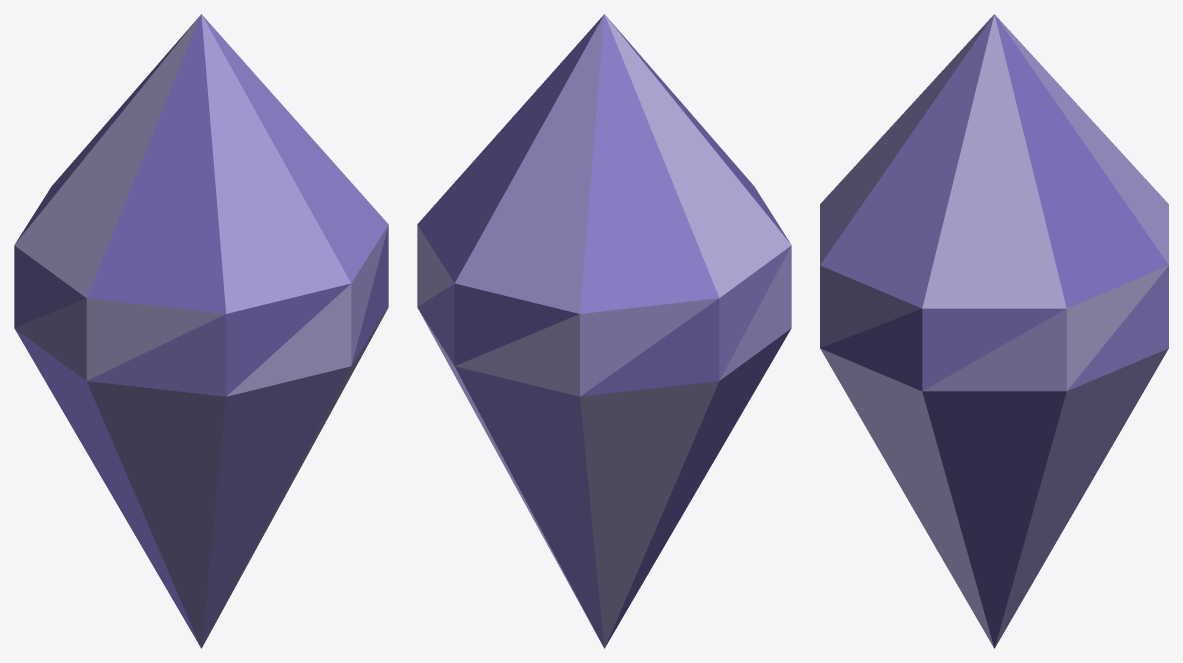
File: demo-model.glb
3 renders of one model, left to right at view 1: azimuth 30°, elevation 25°; view 2: azimuth 150°, elevation 25°; view 3: azimuth 270°, elevation 25°, orthographic.
Parts seen in each view (by area): view 1: Demo crystal; view 2: Demo crystal; view 3: Demo crystal.
Boxes of the visible parts, bbox=[...] form: Demo crystal: bbox=[14, 14, 388, 648]; Demo crystal: bbox=[417, 14, 791, 648]; Demo crystal: bbox=[820, 14, 1168, 648].
Bounding box in the file's own units: 1.15 × 2.3 × 1.15.
